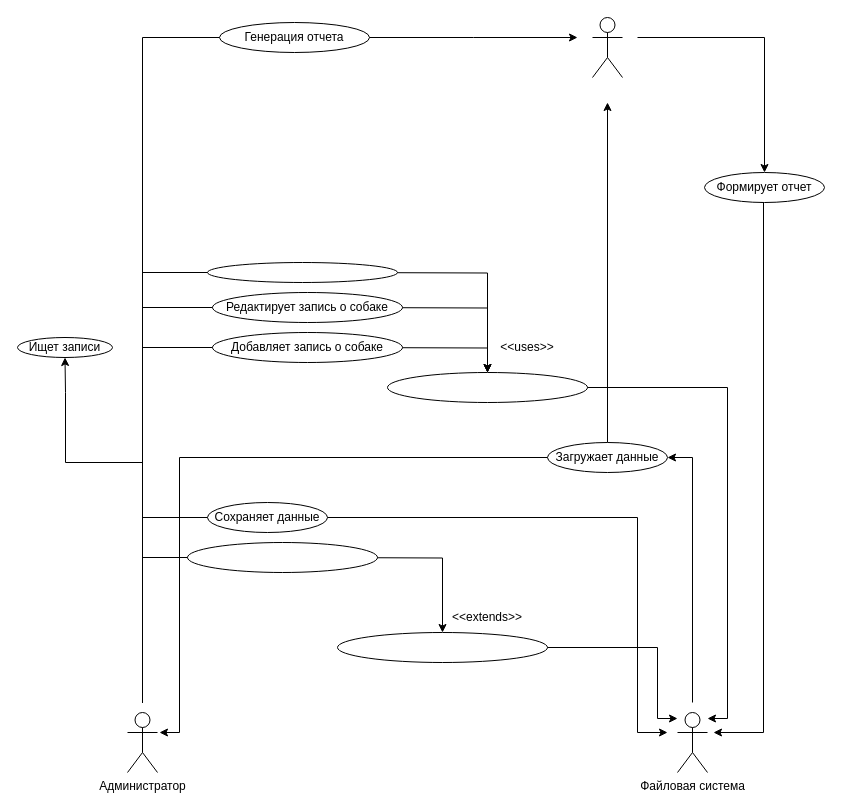
Image size: 842x811. Some labels were removed from this diagram. The shapes that lost their labels are listed below. From the top down, each one's box as (x1, y1, x2, y2) in pixels, then its label:
(592, 16, 622, 78): Подсистема отчетов
(206, 262, 398, 282): Удаляет запись о собаке
(386, 372, 588, 402): Проверяет корректность данных
(186, 542, 378, 572): Завершает работу программы
(336, 632, 548, 662): Автоматически сохраняет данные
